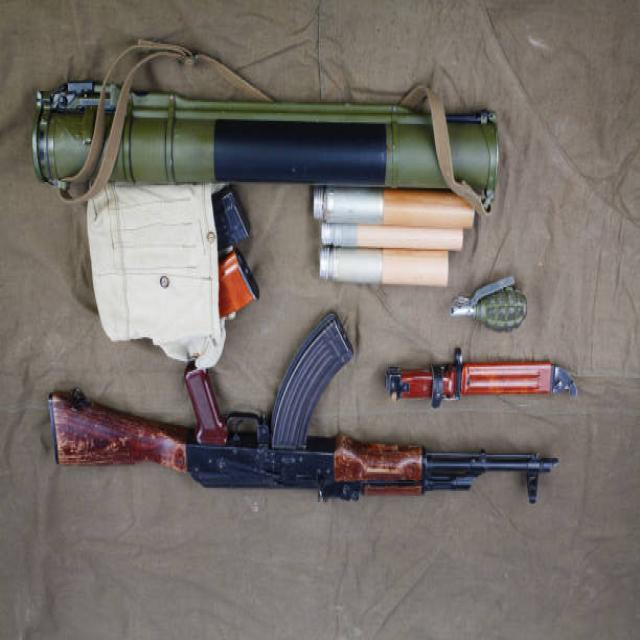grenade: (445, 270, 535, 337)
